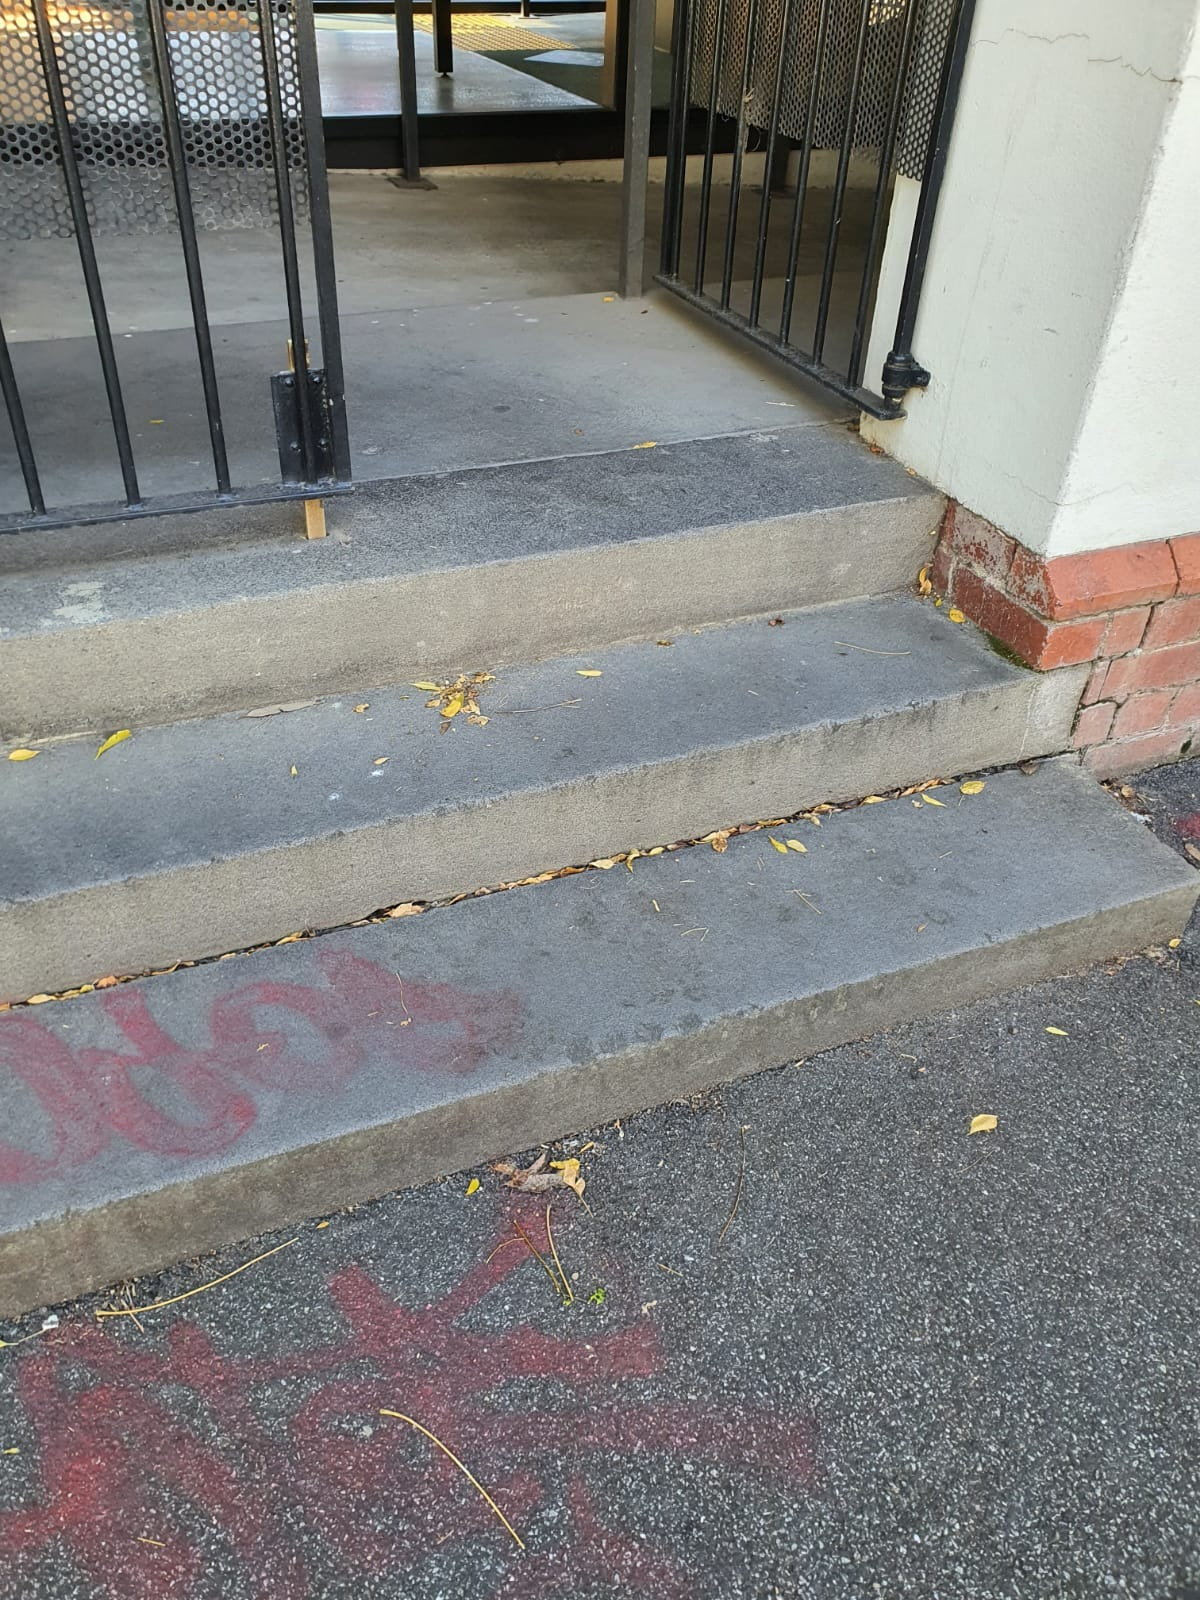upstairs: (40, 745, 1008, 1346)
